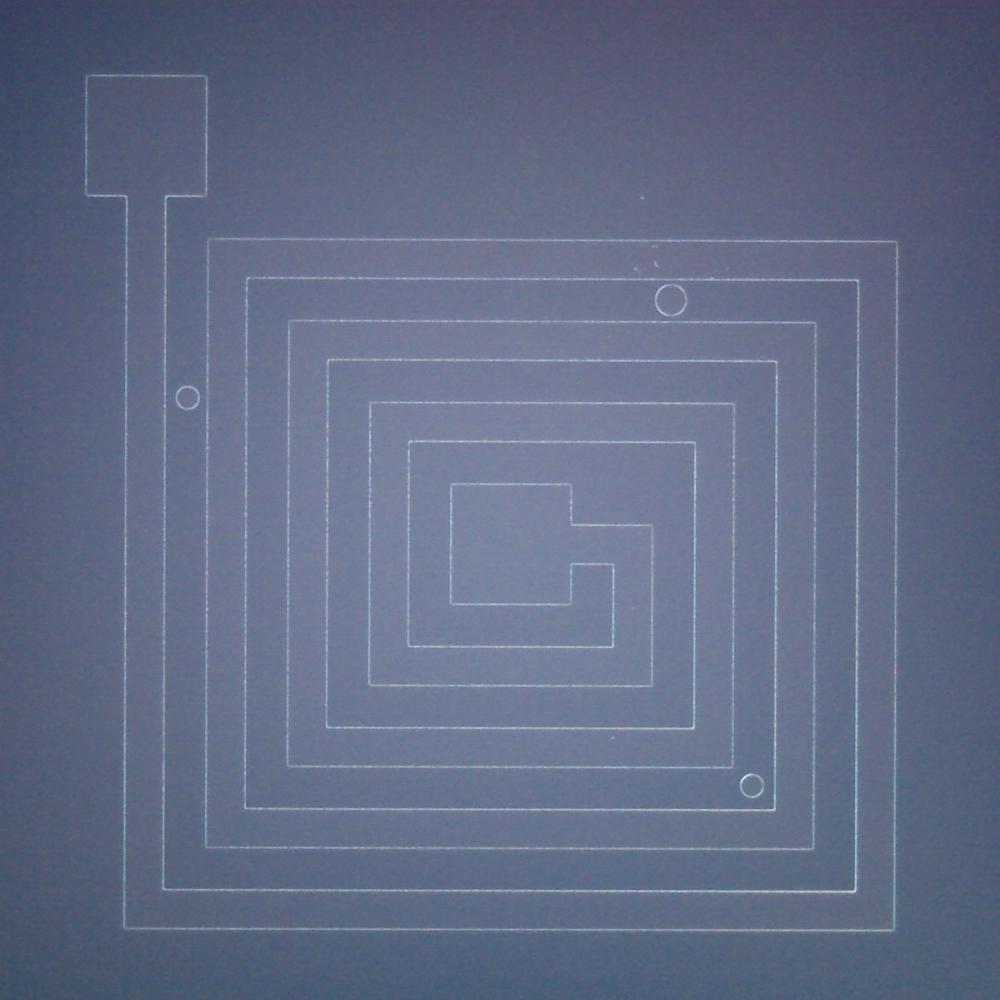dot: (653, 261, 659, 267), (634, 266, 638, 272), (610, 736, 615, 740), (640, 195, 644, 199)
